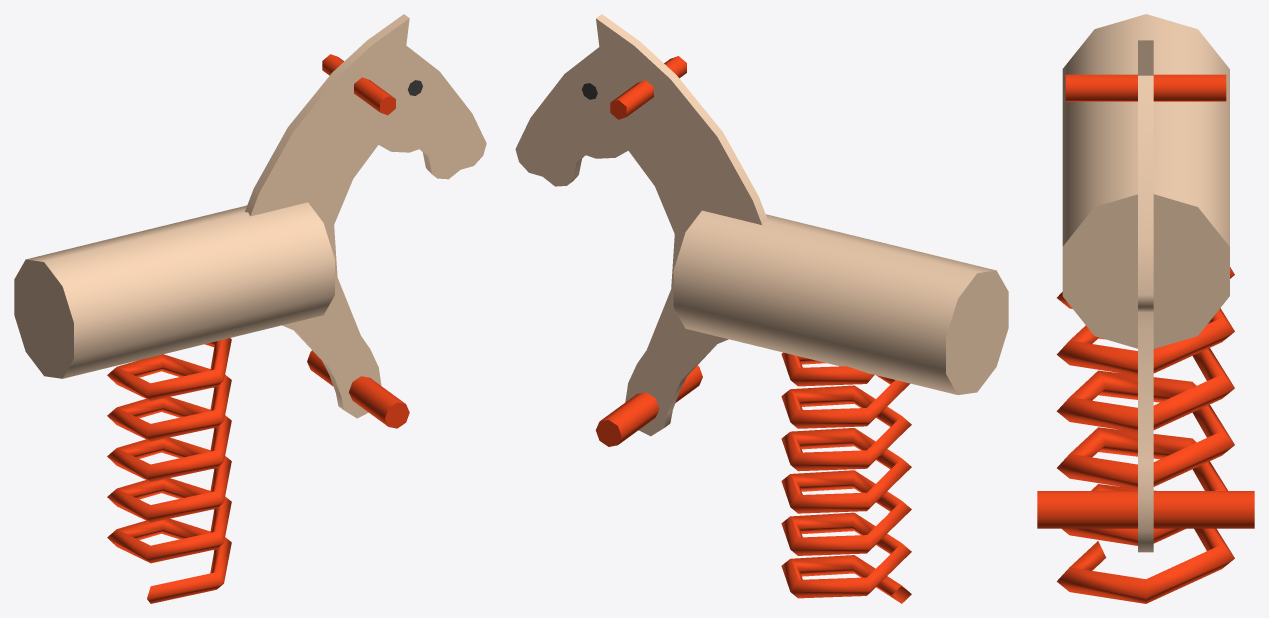
The model's file is HorseSpring.fbx.
3 renders of one model, left to right at view 1: azimuth 30°, elevation 25°; view 2: azimuth 150°, elevation 25°; view 3: azimuth 270°, elevation 25°, orthographic. The views are drawn at different scales.
Parts seen in each view (by area): view 1: HorseSpring; view 2: HorseSpring; view 3: HorseSpring.
Part boxes in pixels (x1=…): HorseSpring: x1=14, y1=14, x2=486, y2=603; HorseSpring: x1=515, y1=14, x2=1008, y2=603; HorseSpring: x1=1037, y1=14, x2=1254, y2=603.
Bounding box in the file's own units: 70.93 × 78.43 × 21.76.
